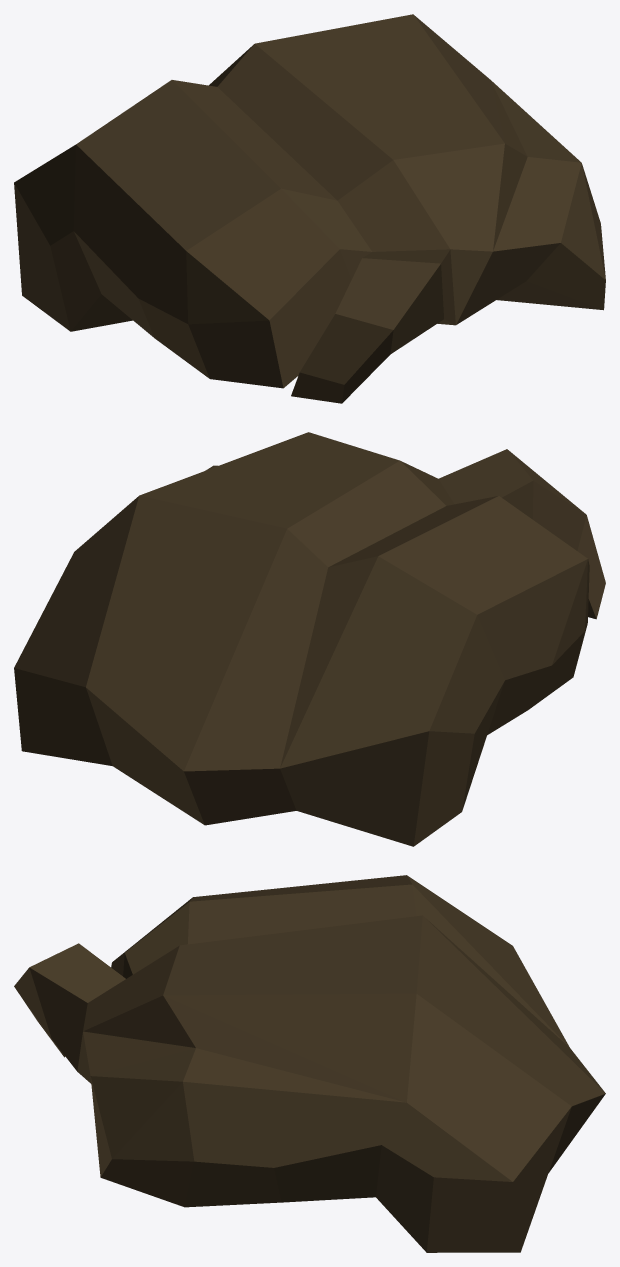
File: Chr_Hair_04_Static.fbx
3 views of the same model, one above another, from view 1: azimuth 30°, elevation 25°; view 2: azimuth 150°, elevation 25°; view 3: azimuth 270°, elevation 25° (orthographic). The views are drawn at different scales.
Parts seen in each view (by area): view 1: Chr_Hair_04_Static; view 2: Chr_Hair_04_Static; view 3: Chr_Hair_04_Static.
Boxes of the visible parts, x1,y1,x2,y2 form: Chr_Hair_04_Static: [14, 14, 605, 403]; Chr_Hair_04_Static: [14, 432, 605, 846]; Chr_Hair_04_Static: [14, 875, 605, 1252].
Size of the model in its own units: 0.2463 by 0.139 by 0.2973.
